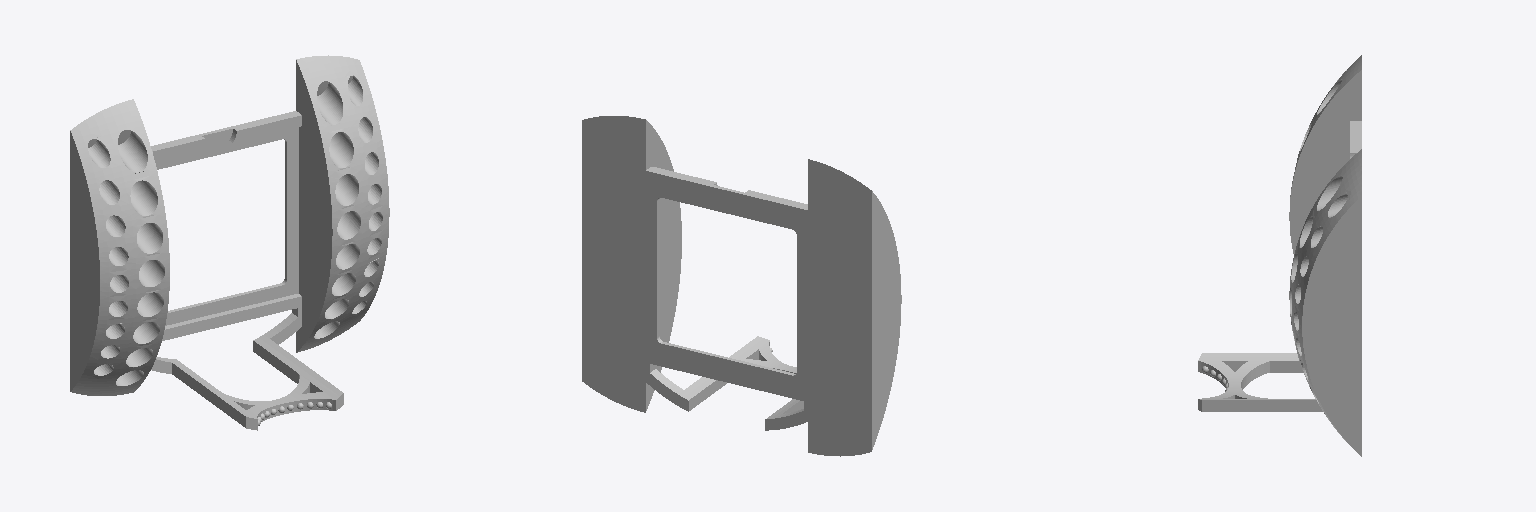
The model's file is reposera.obj.
3 views of the same model, side by side, from view 1: azimuth 30°, elevation 25°; view 2: azimuth 150°, elevation 25°; view 3: azimuth 270°, elevation 25° (orthographic).
Visible parts, largest first — view 1: Object.1; view 2: Object.1; view 3: Object.1.
Boxes of the visible parts, box(x1,y1,x2,y2) form: Object.1: box(70, 55, 389, 430); Object.1: box(582, 116, 901, 456); Object.1: box(1198, 55, 1361, 456).
Size of the model in its own units: 137950 by 133734 by 67800.